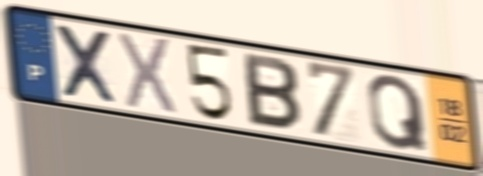5: (183, 41, 233, 123)
7: (305, 58, 359, 140)
B: (241, 50, 304, 135)
Q: (365, 73, 432, 155)
X: (51, 20, 122, 108), (116, 29, 179, 119)
